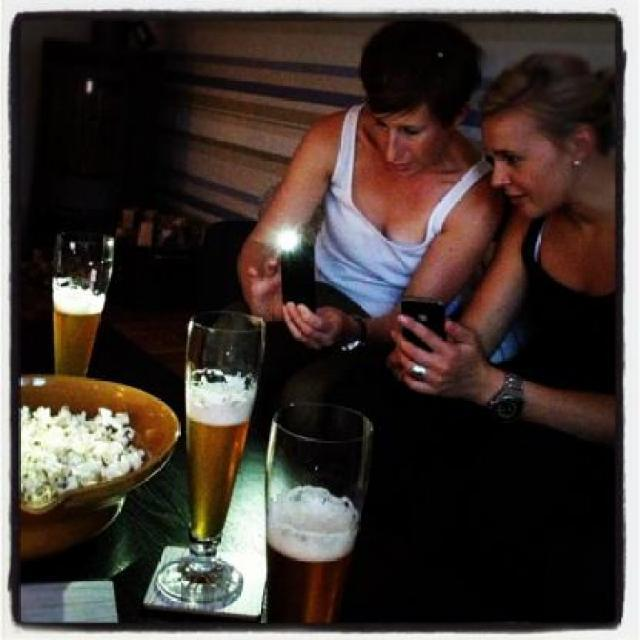Popcorn: (0, 383, 155, 494)
